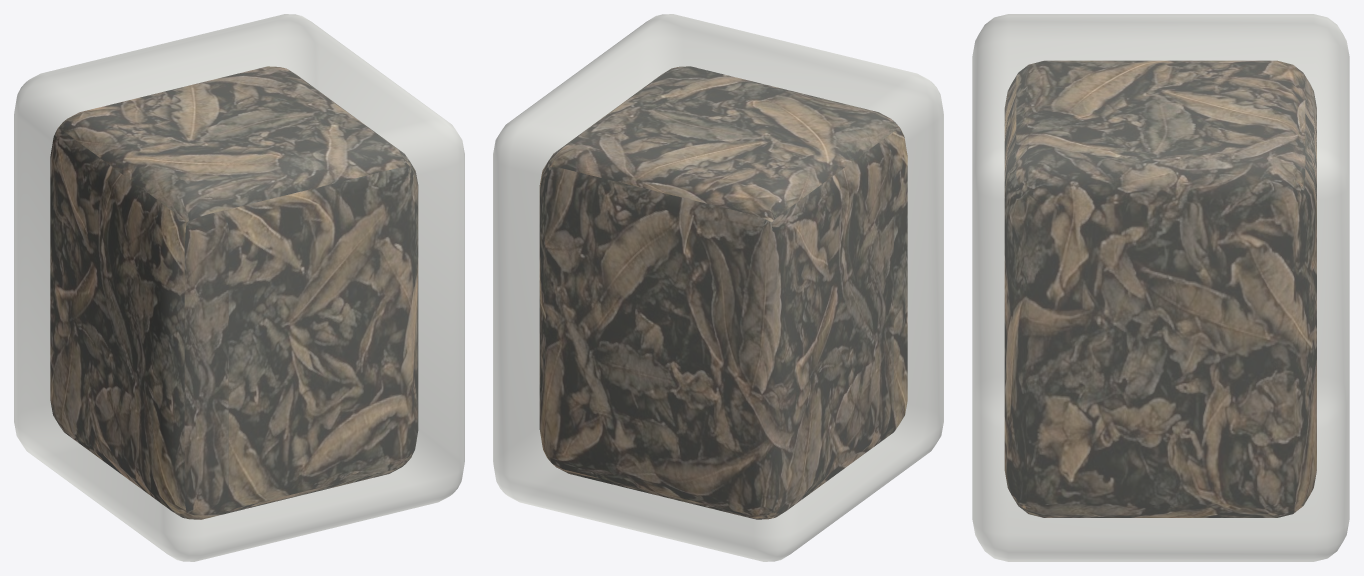
The model's file is YUYO2.glb.
The picture shows the model from 3 angles, left to right: view 1: azimuth 30°, elevation 25°; view 2: azimuth 150°, elevation 25°; view 3: azimuth 270°, elevation 25°; orthographic projection. The views are drawn at different scales.
Visible parts, largest first — view 1: Cube, Cube.001; view 2: Cube, Cube.001; view 3: Cube, Cube.001.
Boxes of the visible parts, x1=… form: Cube: x1=14, y1=14, x2=464, y2=561; Cube.001: x1=50, y1=66, x2=418, y2=519; Cube: x1=493, y1=14, x2=943, y2=561; Cube.001: x1=539, y1=66, x2=907, y2=519; Cube: x1=972, y1=14, x2=1349, y2=561; Cube.001: x1=1004, y1=60, x2=1316, y2=517.
Bounding box in the file's own units: 2.79 × 3.37 × 2.79.
Materials: 2 (1 with a texture image).
